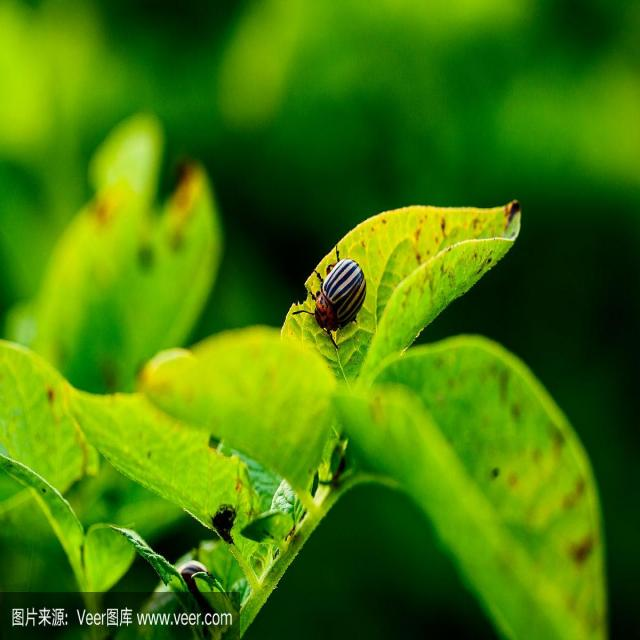ShuCaiHuaBanChong-Grown-: (316, 243, 376, 346)
